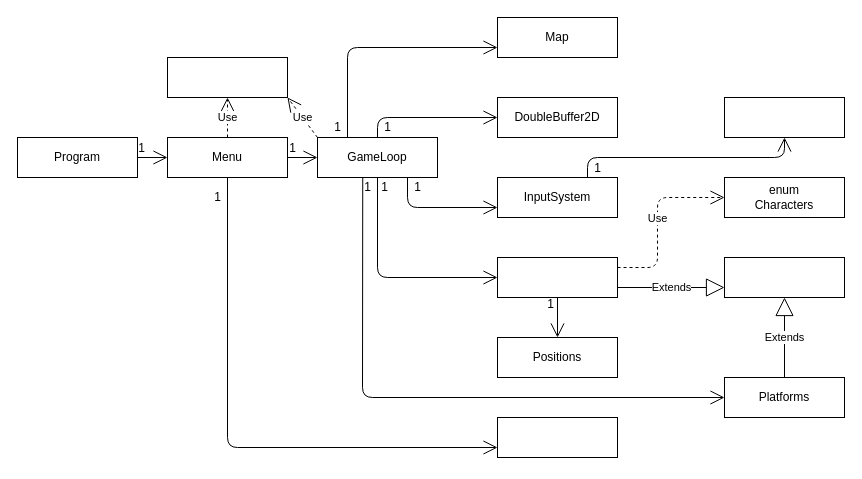
This 862x479 diagram has some shape labels left out. The box of each missing label's shape, as (x1, y1, x2, y2) in pixels:
enum Jump: (724, 96, 844, 138)
GameObject: (724, 256, 844, 298)
HighScore: (496, 416, 618, 458)
MenuPrints: (166, 56, 288, 98)
Player: (496, 256, 618, 298)
